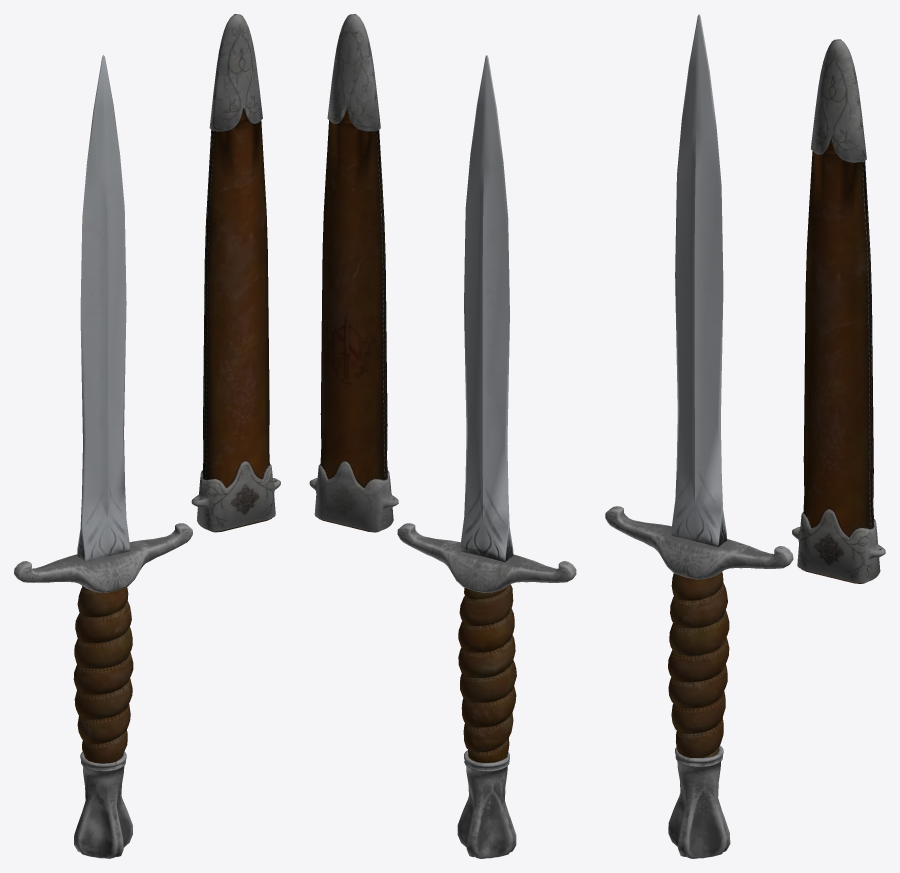
File: ornate_medieval_dagger.glb
The picture shows the model from 3 angles, left to right: view 1: azimuth 30°, elevation 25°; view 2: azimuth 150°, elevation 25°; view 3: azimuth 330°, elevation 25°; orthographic projection. The views are drawn at different scales.
Visible parts, largest first — view 1: ornate_medieval_dagger, ornate_medieval_dagger_scabbard; view 2: ornate_medieval_dagger, ornate_medieval_dagger_scabbard; view 3: ornate_medieval_dagger, ornate_medieval_dagger_scabbard.
Part boxes in pixels (box(x1,y1,x2,y2)): ornate_medieval_dagger: box(14, 55, 192, 858); ornate_medieval_dagger_scabbard: box(191, 14, 280, 532); ornate_medieval_dagger: box(397, 55, 576, 858); ornate_medieval_dagger_scabbard: box(309, 14, 398, 532); ornate_medieval_dagger: box(605, 14, 793, 858); ornate_medieval_dagger_scabbard: box(792, 39, 885, 583).
Size of the model in its own units: 0.1202 by 0.3489 by 0.025.
1 material, 1 textured.
